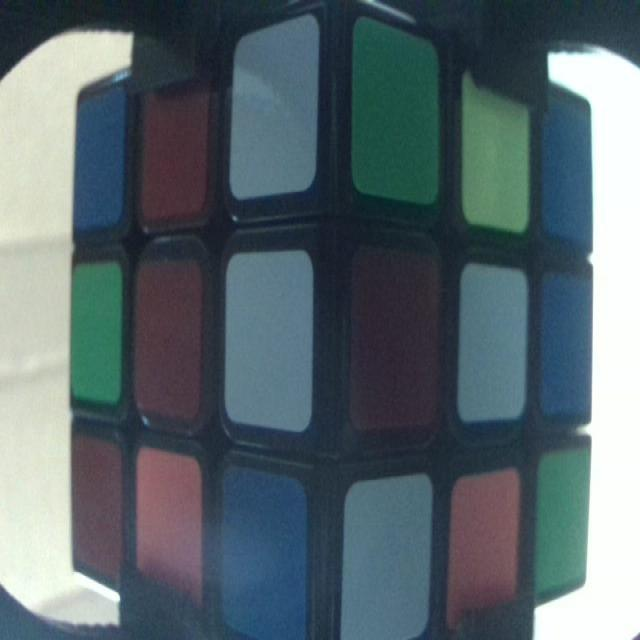b: (224, 467, 308, 640), (543, 92, 594, 242), (540, 271, 591, 418), (76, 100, 123, 228)
g: (351, 16, 440, 201), (72, 266, 125, 408), (537, 454, 588, 588)
o: (138, 452, 202, 624), (448, 477, 522, 623)
r: (351, 248, 438, 430), (135, 266, 202, 425), (140, 78, 206, 216), (70, 438, 122, 578)
w: (231, 15, 319, 194), (338, 473, 430, 640), (230, 250, 311, 428), (458, 256, 528, 420)
y: (462, 66, 533, 235)
